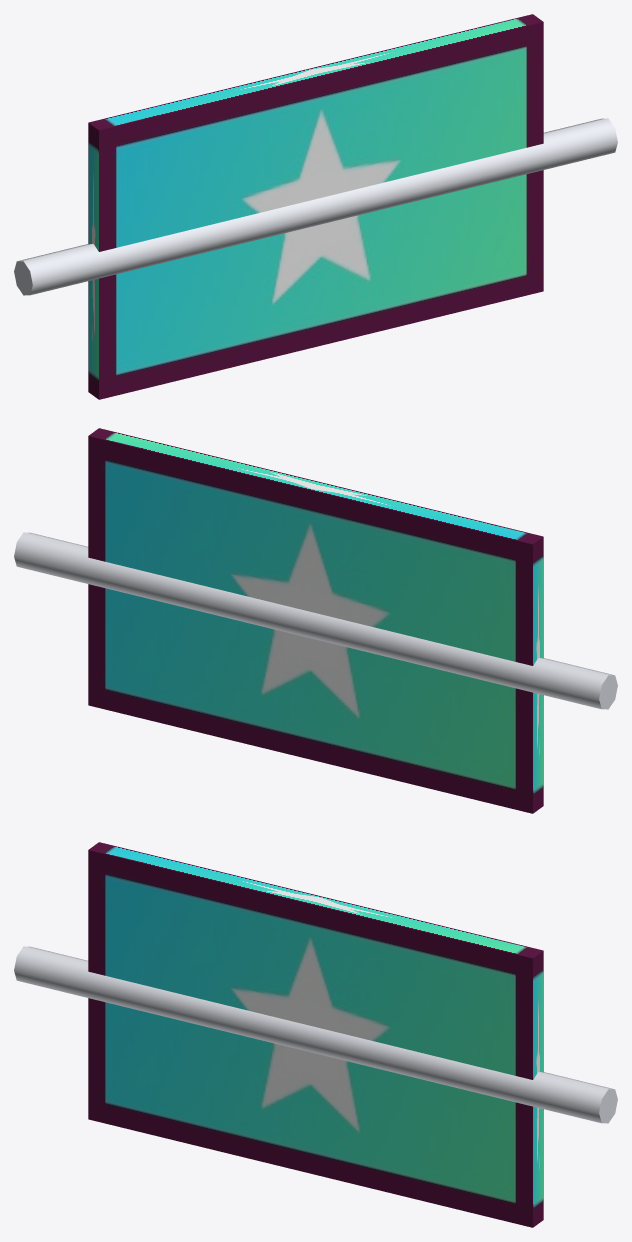
Rendered from pp_spinner.glb.
3 renders of one model, top to bottom at view 1: azimuth 30°, elevation 25°; view 2: azimuth 150°, elevation 25°; view 3: azimuth 330°, elevation 25°, orthographic.
Visible parts, largest first — view 1: Plate, Axle; view 2: Plate, Axle; view 3: Plate, Axle.
Part boxes in pixels (<box>): Plate: <box>88,14,543,399</box>; Axle: <box>14,118,617,295</box>; Plate: <box>88,428,543,813</box>; Axle: <box>14,532,617,709</box>; Plate: <box>88,842,543,1227</box>; Axle: <box>14,946,617,1123</box>.
Bounding box in the file's own units: 0.05 × 0.022 × 0.0028.
Materials: 7 (6 with a texture image).
